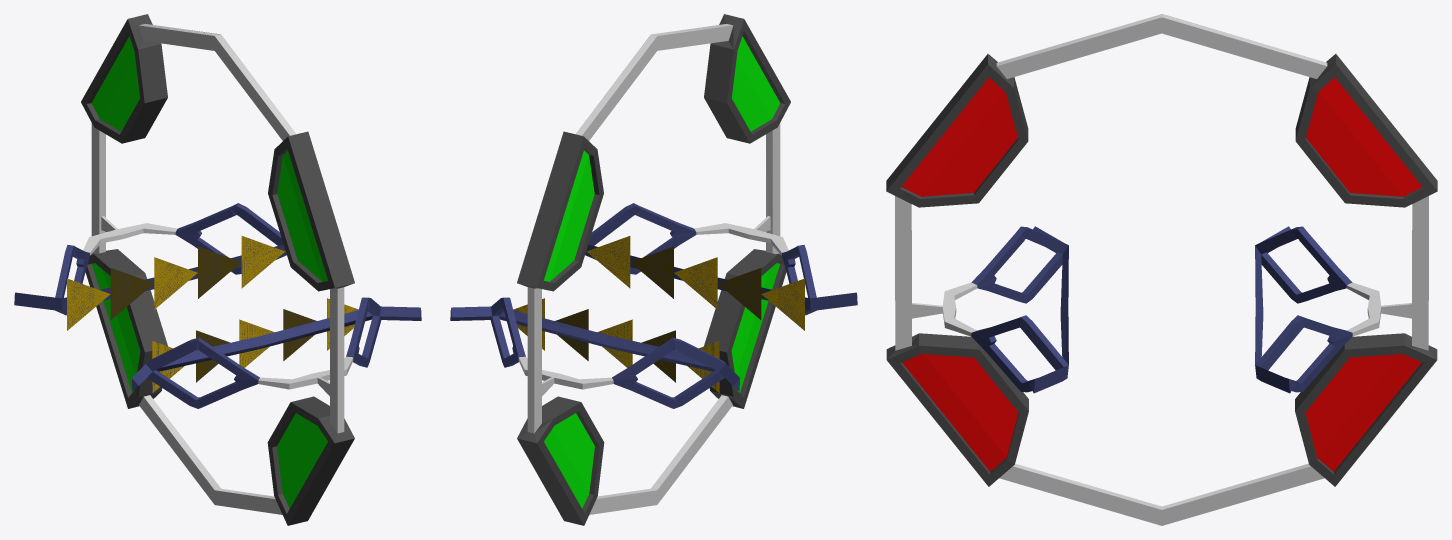
Rendered from speed_gate.FBX.
3 renders of one model, left to right at view 1: azimuth 30°, elevation 25°; view 2: azimuth 150°, elevation 25°; view 3: azimuth 270°, elevation 25°, orthographic. The views are drawn at different scales.
Parts seen in each view (by area): view 1: Tube001; view 2: Tube001; view 3: Tube001.
Boxes of the visible parts, x1=… form: Tube001: x1=14, y1=14, x2=421, y2=525; Tube001: x1=450, y1=14, x2=857, y2=525; Tube001: x1=886, y1=14, x2=1437, y2=525.
Size of the model in its own units: 39.75 by 60.5 by 61.57.
